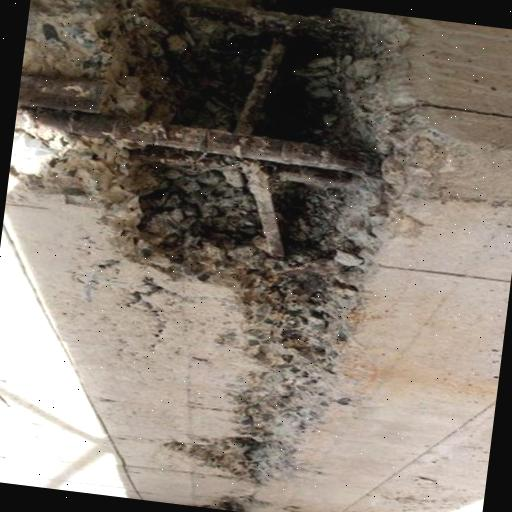spalling: (22, 0, 445, 482)
